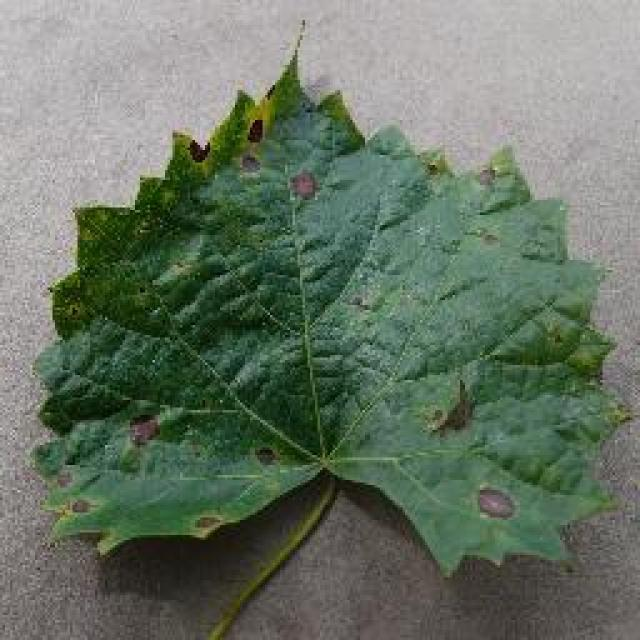Grape___Black_rot: (20, 15, 637, 588)
